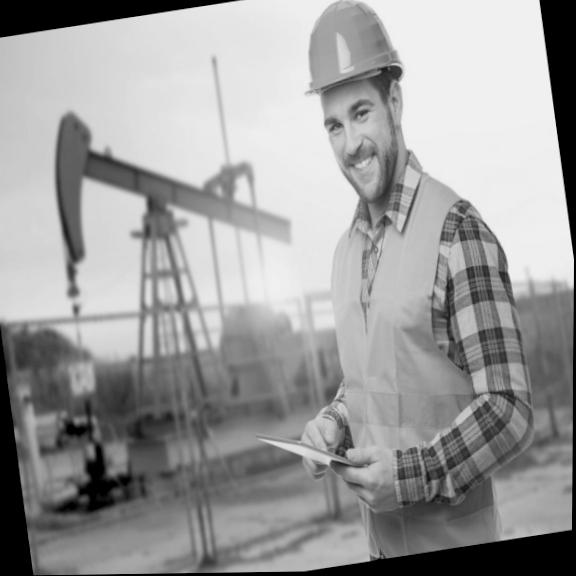safety_vest: (311, 186, 536, 563)
